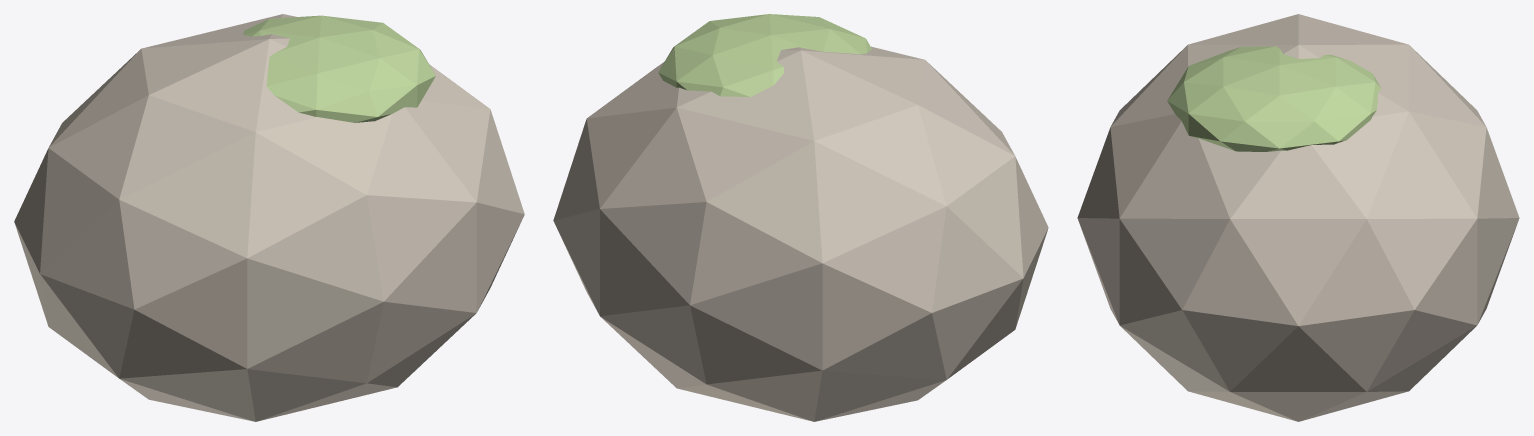
Rendered from rock_01.glb.
3 views of the same model, side by side, from view 1: azimuth 30°, elevation 25°; view 2: azimuth 150°, elevation 25°; view 3: azimuth 270°, elevation 25° (orthographic). The views are drawn at different scales.
Visible parts, largest first — view 1: rock, moss; view 2: rock, moss; view 3: rock, moss.
Part boxes in pixels (bbox=[...]): rock: bbox=[14, 14, 524, 421]; moss: bbox=[243, 15, 435, 122]; rock: bbox=[553, 46, 1048, 421]; moss: bbox=[658, 14, 871, 96]; rock: bbox=[1077, 14, 1519, 421]; moss: bbox=[1167, 46, 1381, 151].
Size of the model in its own units: 1.34 by 1 by 1.16.
